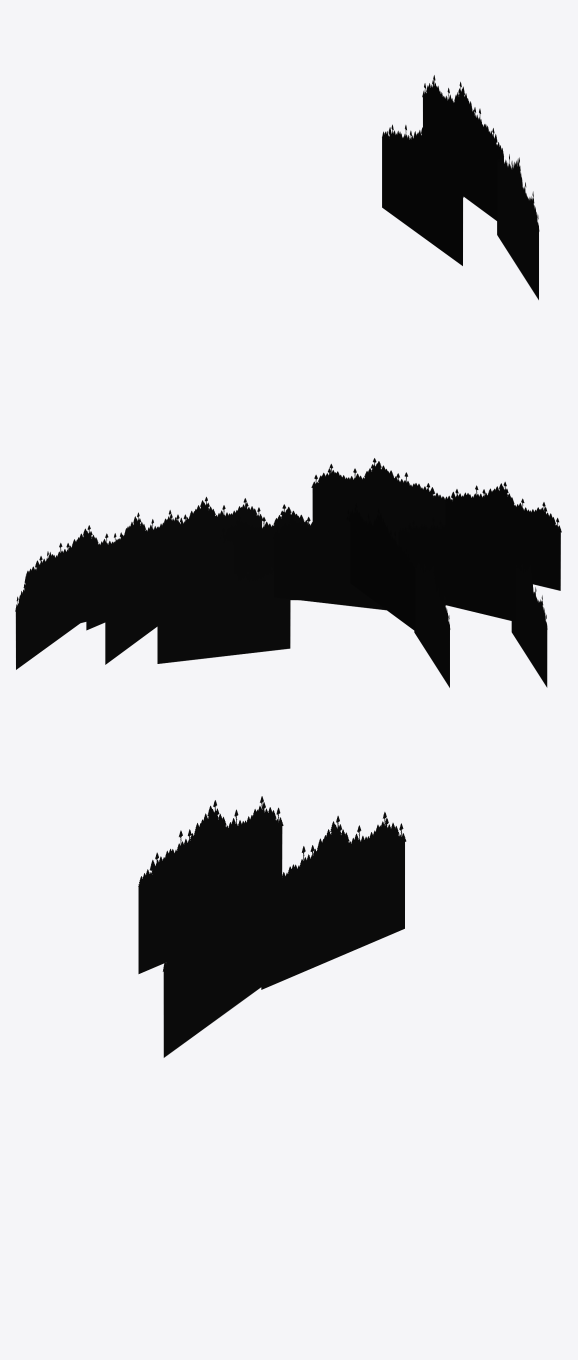
File: VistaOld.glb
3 views of the same model, one above another, from view 1: azimuth 30°, elevation 25°; view 2: azimuth 150°, elevation 25°; view 3: azimuth 270°, elevation 25° (orthographic). The views are drawn at different scales.
Visible parts, largest first — view 1: Vista; view 2: Vista; view 3: Vista.
Part boxes in pixels (box(x1,y1,x2,y2)): Vista: box(382, 75, 539, 299); Vista: box(15, 458, 561, 687); Vista: box(138, 796, 406, 1057).
Bounding box in the file's own units: 393 × 158 × 255.
Materials: 3 (3 with a texture image).
